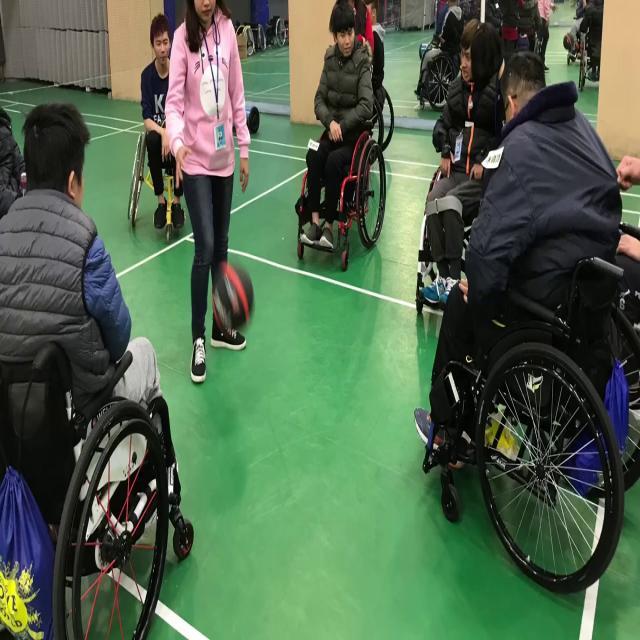wheelchairs: (417, 154, 640, 610), (2, 321, 202, 640), (284, 75, 389, 286), (119, 73, 203, 255), (406, 9, 460, 127)
